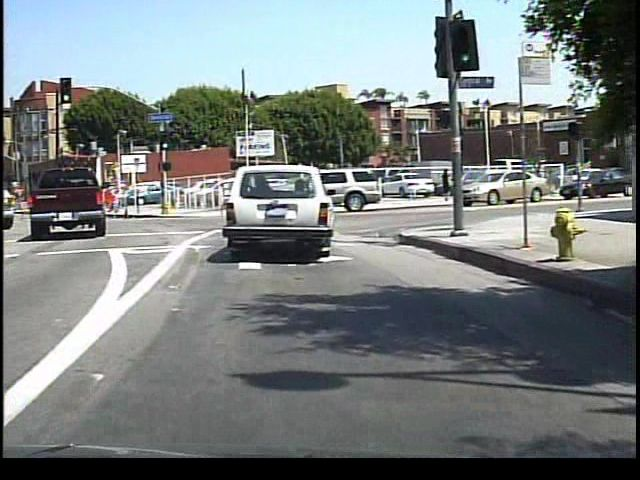car: (223, 166, 336, 263), (30, 166, 109, 238), (465, 167, 515, 212), (329, 164, 373, 207), (393, 169, 438, 207)
